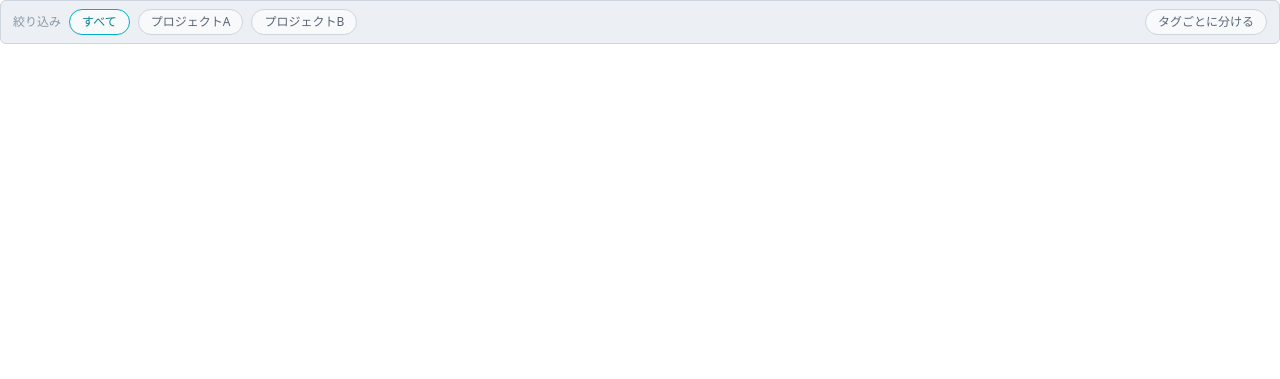
Test: NoteList › 「すべて」で絞り込みを解除できる
Click the button "プロジェクトA": click(191, 22) [138,9,243,35]
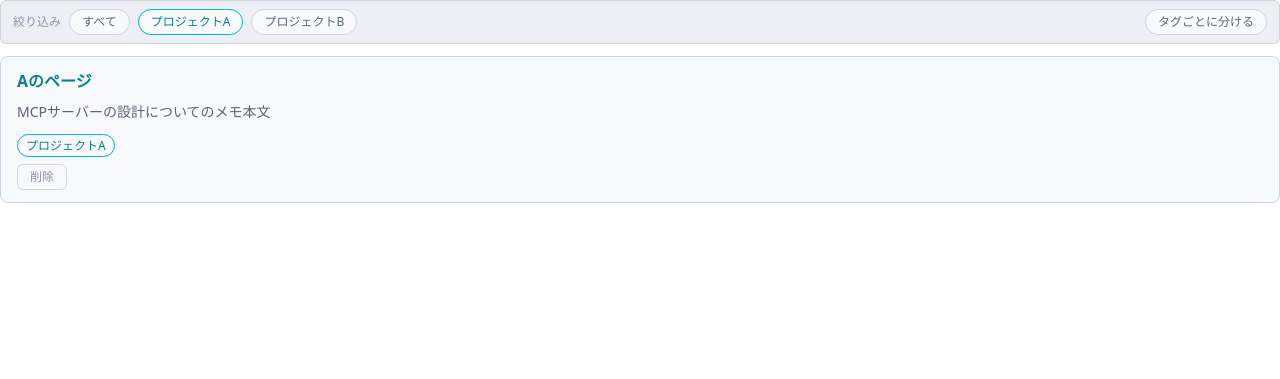
Click the button "すべて": click(99, 22) [69,9,130,35]
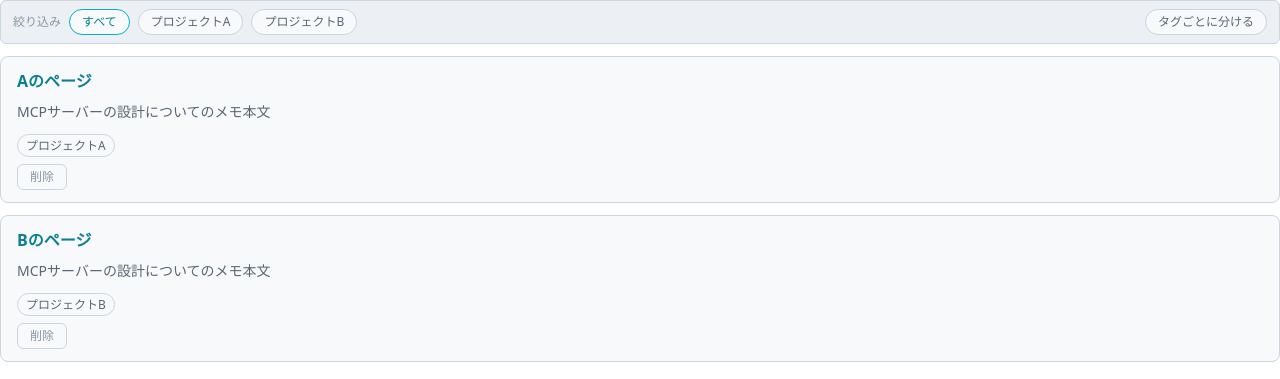
Expected: the button "Bのページ" is shown, [17,228,91,252]
